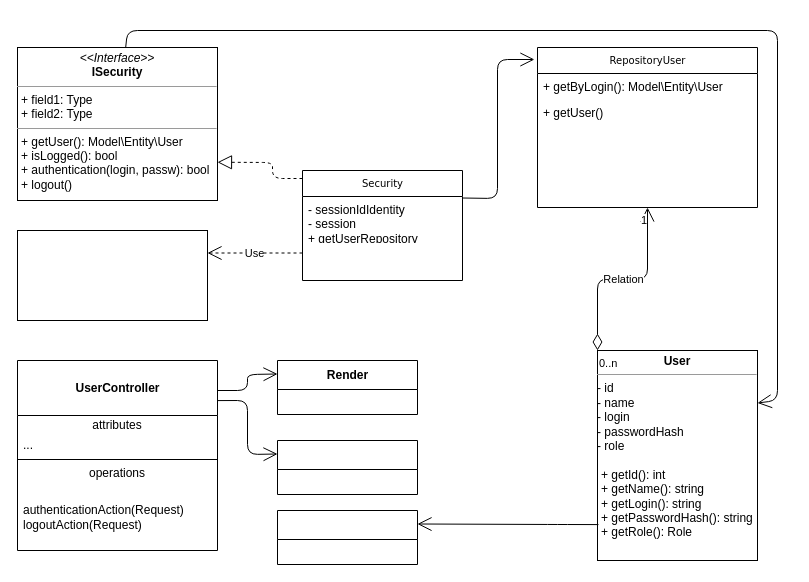
The diagram is 809 pixels wide and 582 high, and some of its shapes have lost their labels. The shapes that lost their labels are listed below. From the top down, each one's centre as x and y in pixels, then its label:
At (112,275): "<<Interface>> SessionInterface + get (Identity): Id + (Identity, Id)".
At (347,467): "Request".
At (347,537): "Role".
